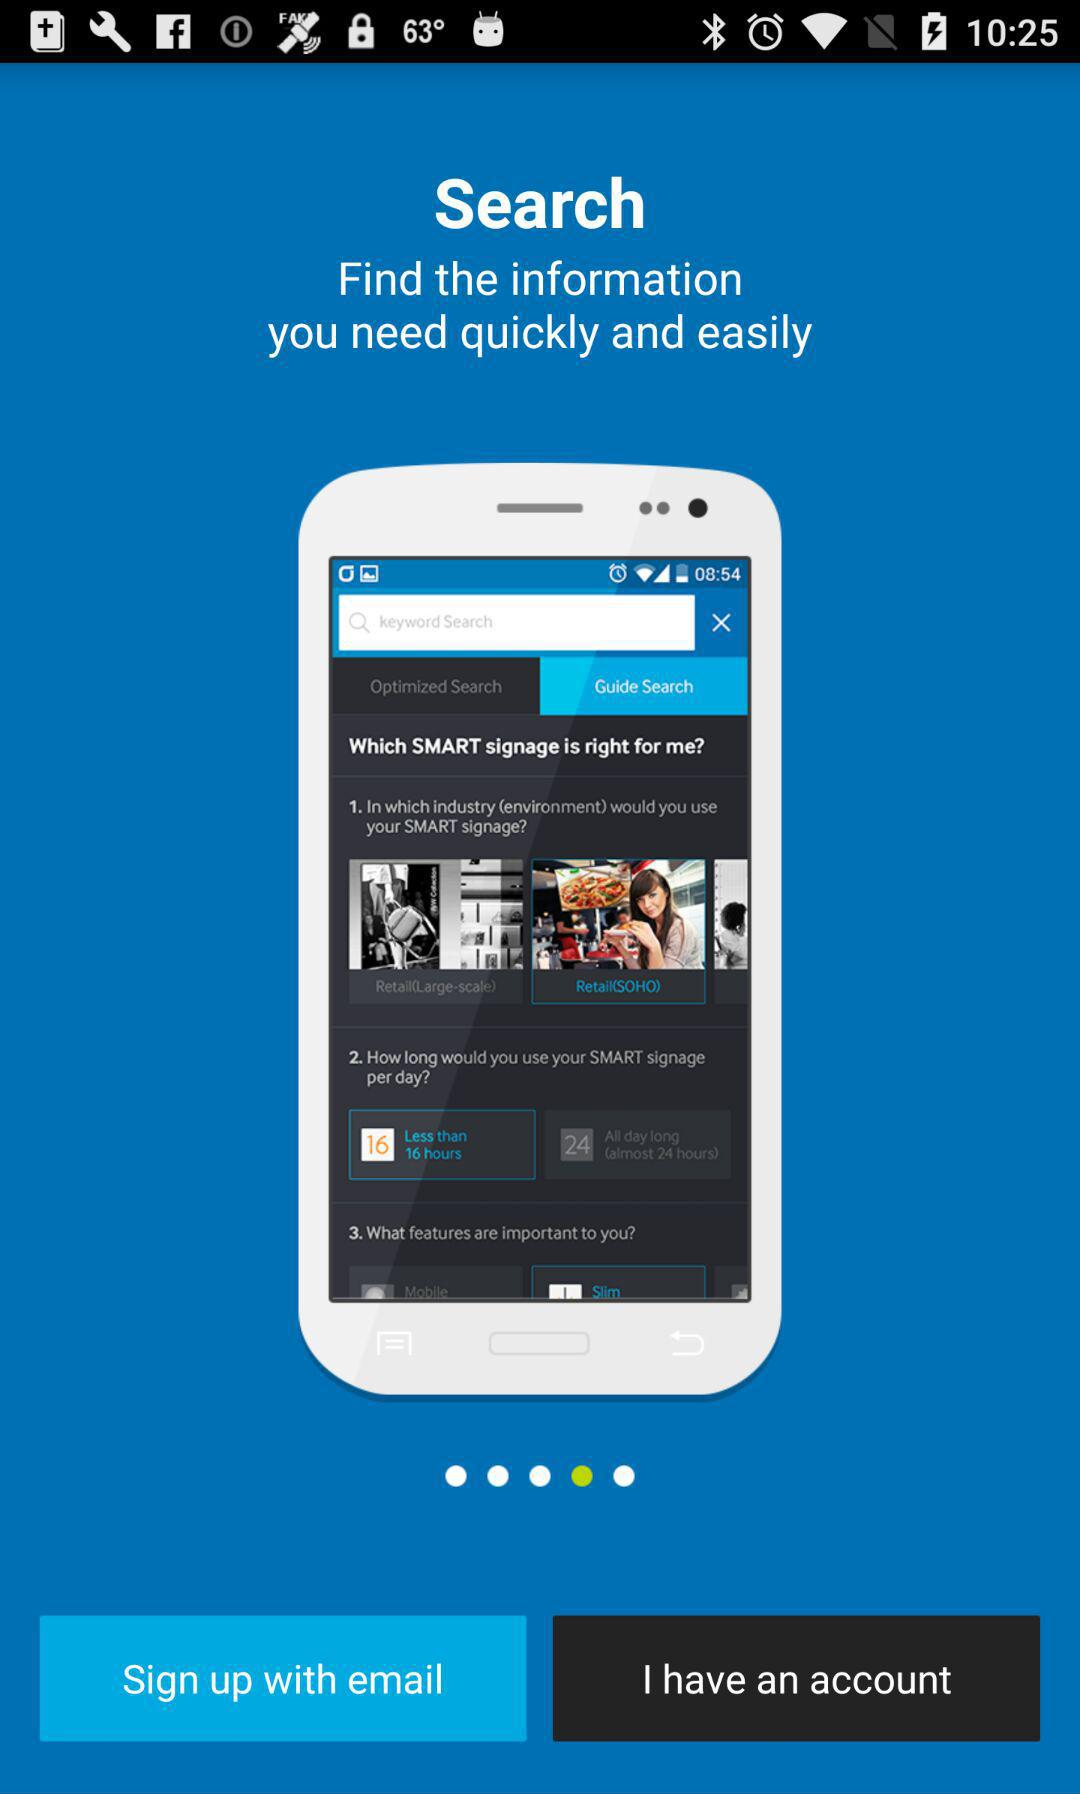Image: (299, 463, 783, 1401)
PageIndicator: (445, 1463, 637, 1489)
Text: (268, 260, 814, 360), (436, 176, 644, 231)
TextButton: (40, 1615, 528, 1741), (553, 1616, 1042, 1741)
UpperTaskBar: (1, 1, 1080, 64)
